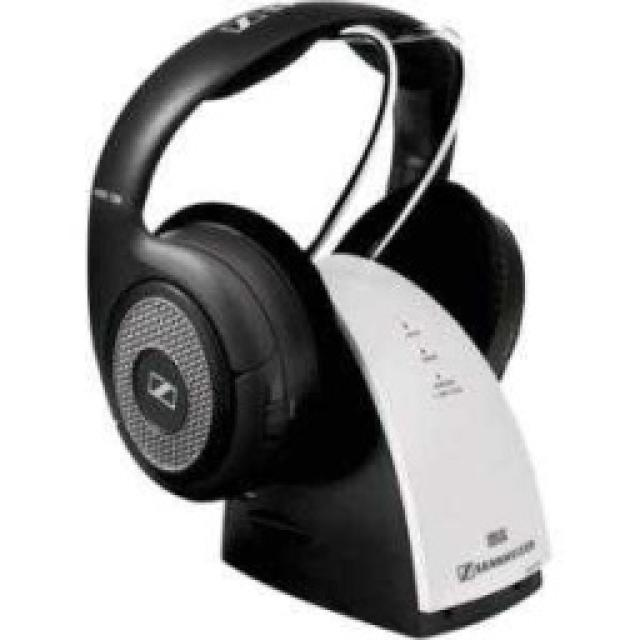headphones: (82, 0, 550, 638)
